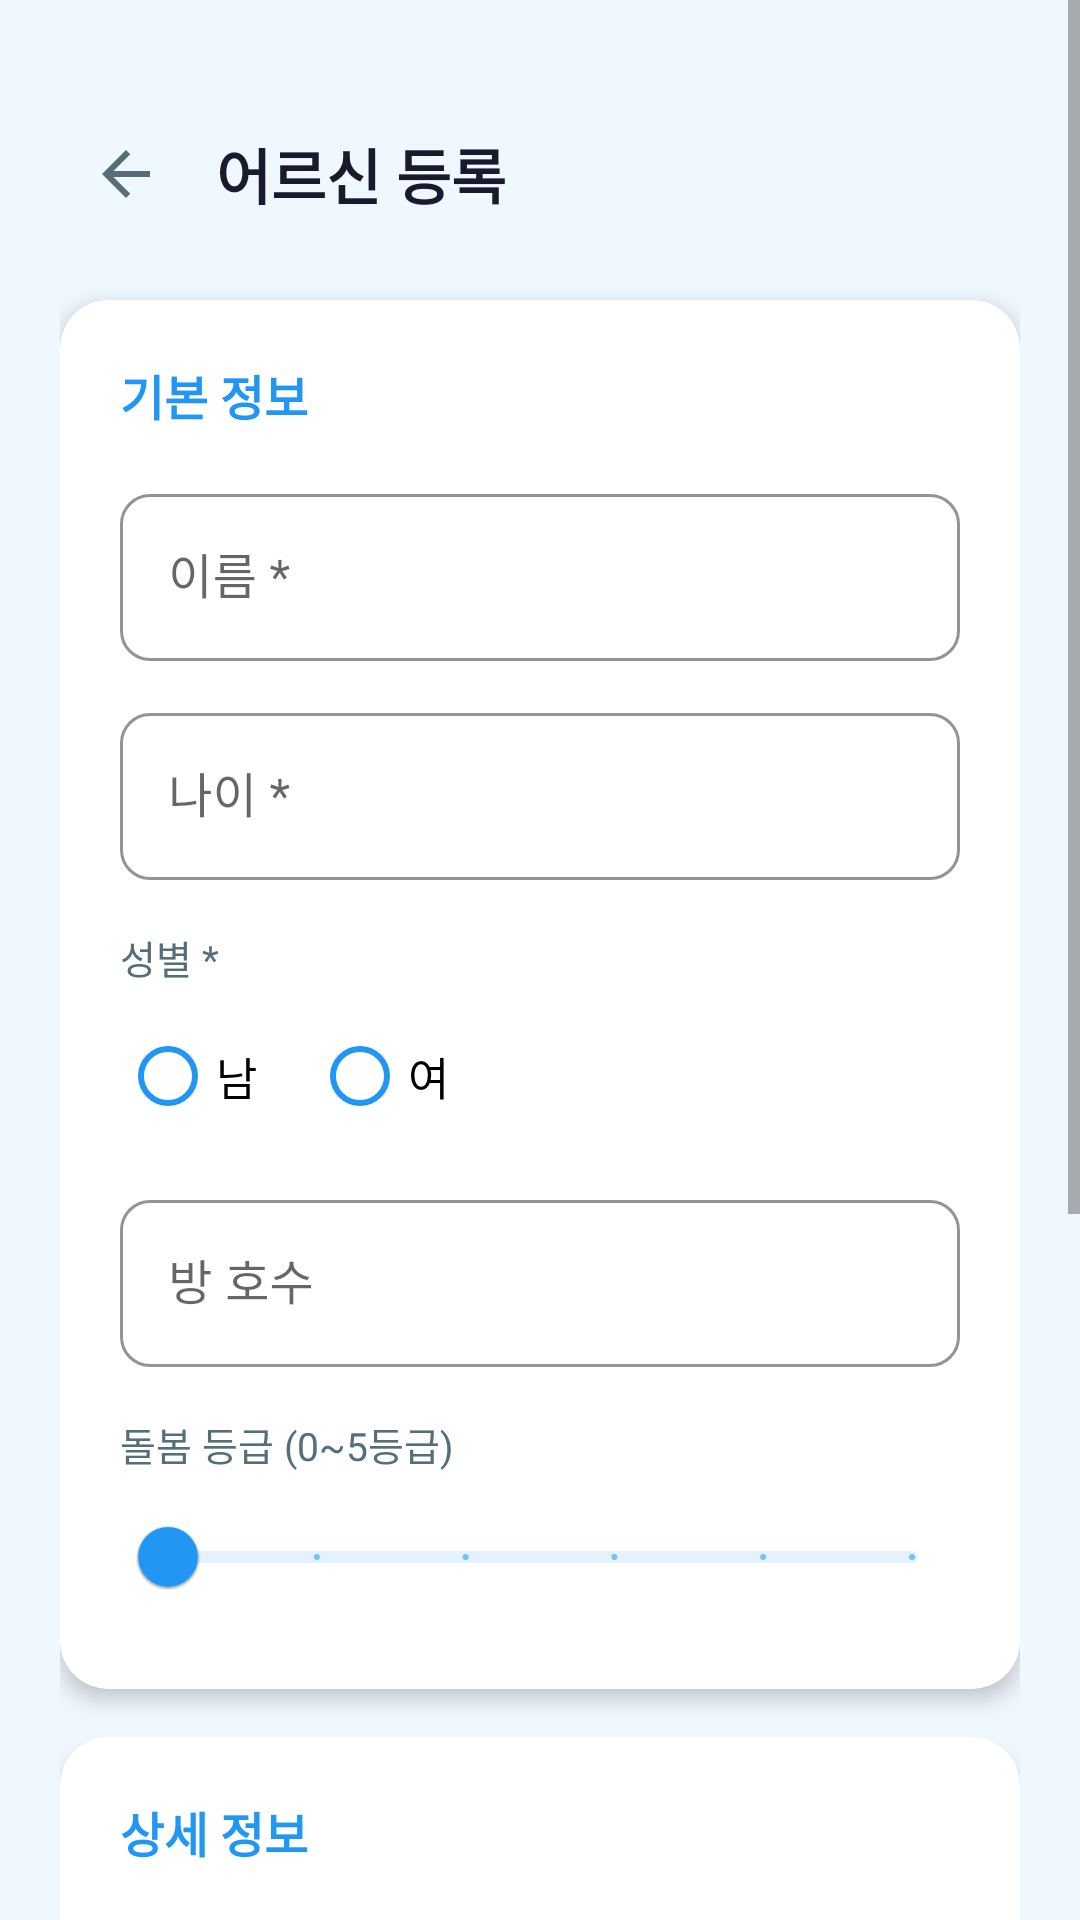

Named icons in this screenshot (1080x1920) and their centers, [x,y]:
뒤로가기: [126,174]
